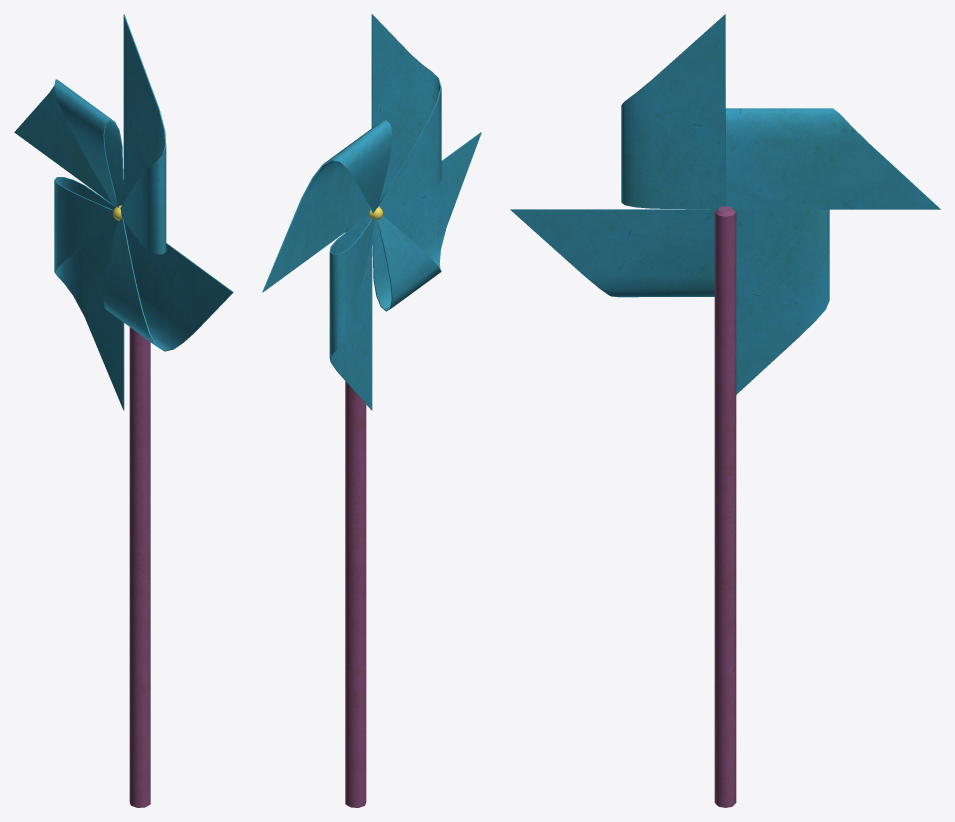
The model's file is Pinwheel_05.fbx.
3 renders of one model, left to right at view 1: azimuth 30°, elevation 25°; view 2: azimuth 150°, elevation 25°; view 3: azimuth 270°, elevation 25°, orthographic.
Visible parts, largest first — view 1: Pinwheel_Blades.005, Pinwheel_Handle; view 2: Pinwheel_Blades.005, Pinwheel_Handle; view 3: Pinwheel_Blades.005, Pinwheel_Handle.
Part boxes in pixels (x1=…): Pinwheel_Blades.005: x1=14, y1=14, x2=233, y2=410; Pinwheel_Handle: x1=129, y1=327, x2=150, y2=807; Pinwheel_Blades.005: x1=262, y1=14, x2=481, y2=410; Pinwheel_Handle: x1=345, y1=229, x2=366, y2=807; Pinwheel_Blades.005: x1=510, y1=14, x2=940, y2=394; Pinwheel_Handle: x1=714, y1=206, x2=736, y2=807.
Bounding box in the file's own units: 0.2442 × 2 × 4.01.
